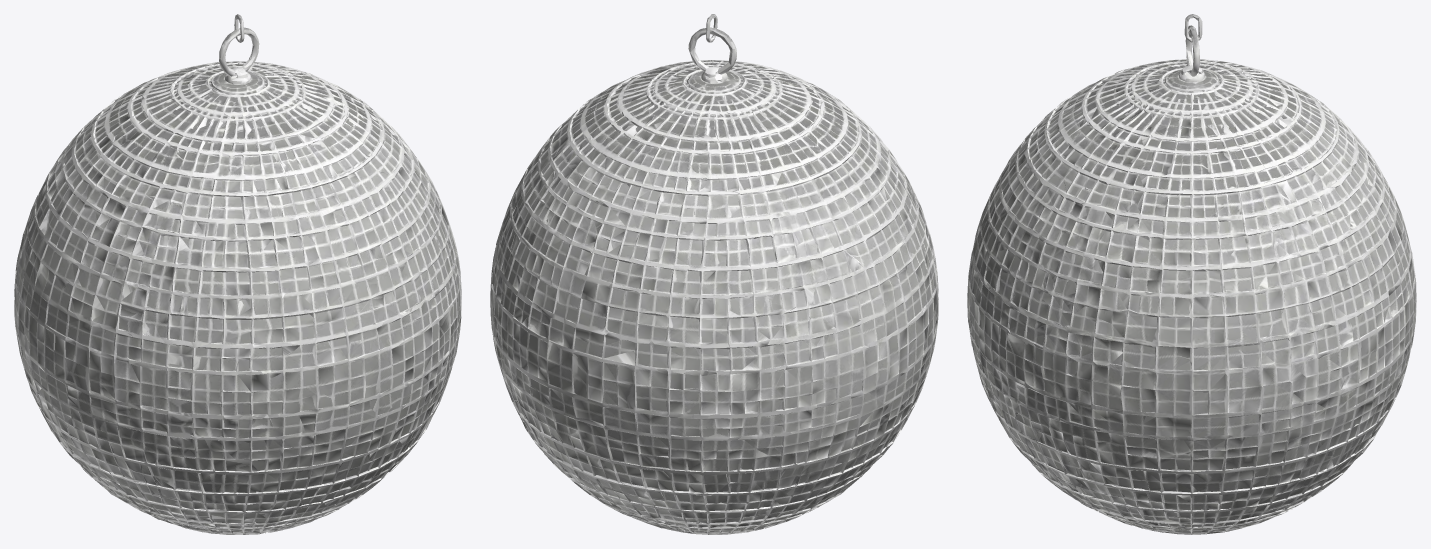
File: disco-ball.glb
3 views of the same model, side by side, from view 1: azimuth 30°, elevation 25°; view 2: azimuth 150°, elevation 25°; view 3: azimuth 270°, elevation 25° (orthographic).
Visible parts, largest first — view 1: Mesh_0; view 2: Mesh_0; view 3: Mesh_0.
Boxes of the visible parts, box(x1,y1,x2,y2) form: Mesh_0: box(14, 14, 461, 534); Mesh_0: box(490, 14, 938, 534); Mesh_0: box(967, 14, 1416, 534).
Bounding box in the file's own units: 0.8101 × 1 × 0.8098.
1 material, 1 textured.
